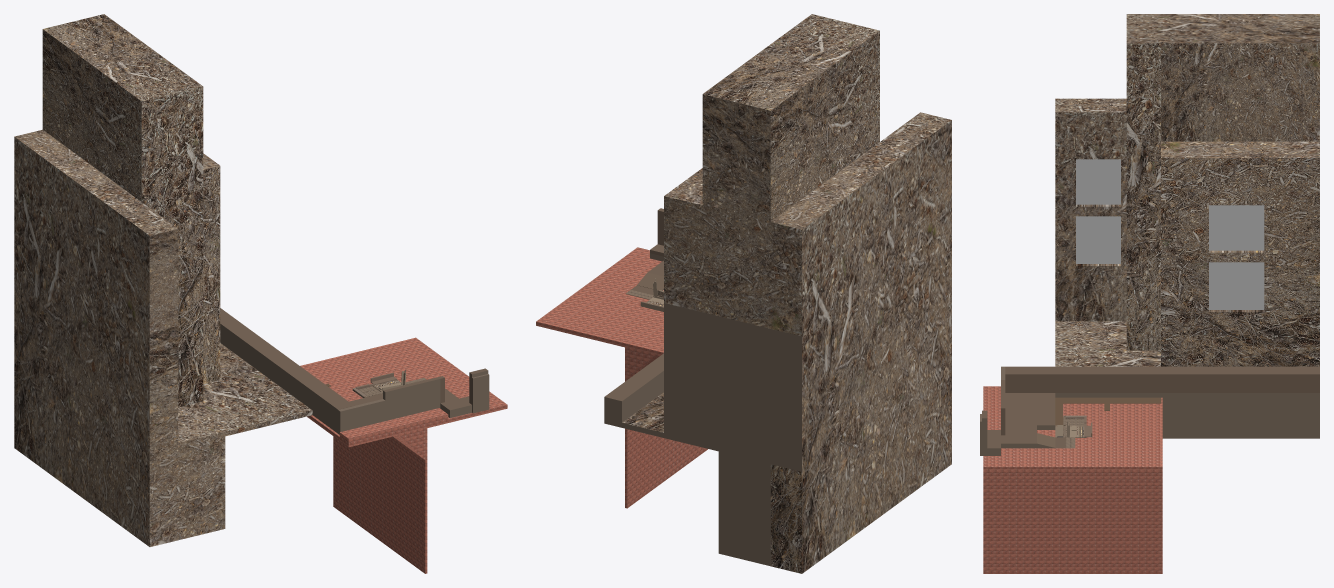
The model's file is decor10.obj.
The picture shows the model from 3 angles, left to right: view 1: azimuth 30°, elevation 25°; view 2: azimuth 150°, elevation 25°; view 3: azimuth 270°, elevation 25°; orthographic projection. The views are drawn at different scales.
Visible parts, largest first — view 1: Plan.008_Plan.011, Plan.009_Plan.012; view 2: Plan.008_Plan.011, Plan.009_Plan.012; view 3: Plan.008_Plan.011, Plan.009_Plan.012.
Part boxes in pixels (x1,y1,x2,y2): Plan.008_Plan.011: (14, 14, 489, 546); Plan.009_Plan.012: (300, 337, 507, 573); Plan.008_Plan.011: (604, 14, 951, 573); Plan.009_Plan.012: (536, 247, 707, 508); Plan.008_Plan.011: (980, 14, 1319, 455); Plan.009_Plan.012: (983, 386, 1162, 573).
Size of the model in its own units: 2297 by 3213 by 2156.
Materials: 3 (2 with a texture image).
